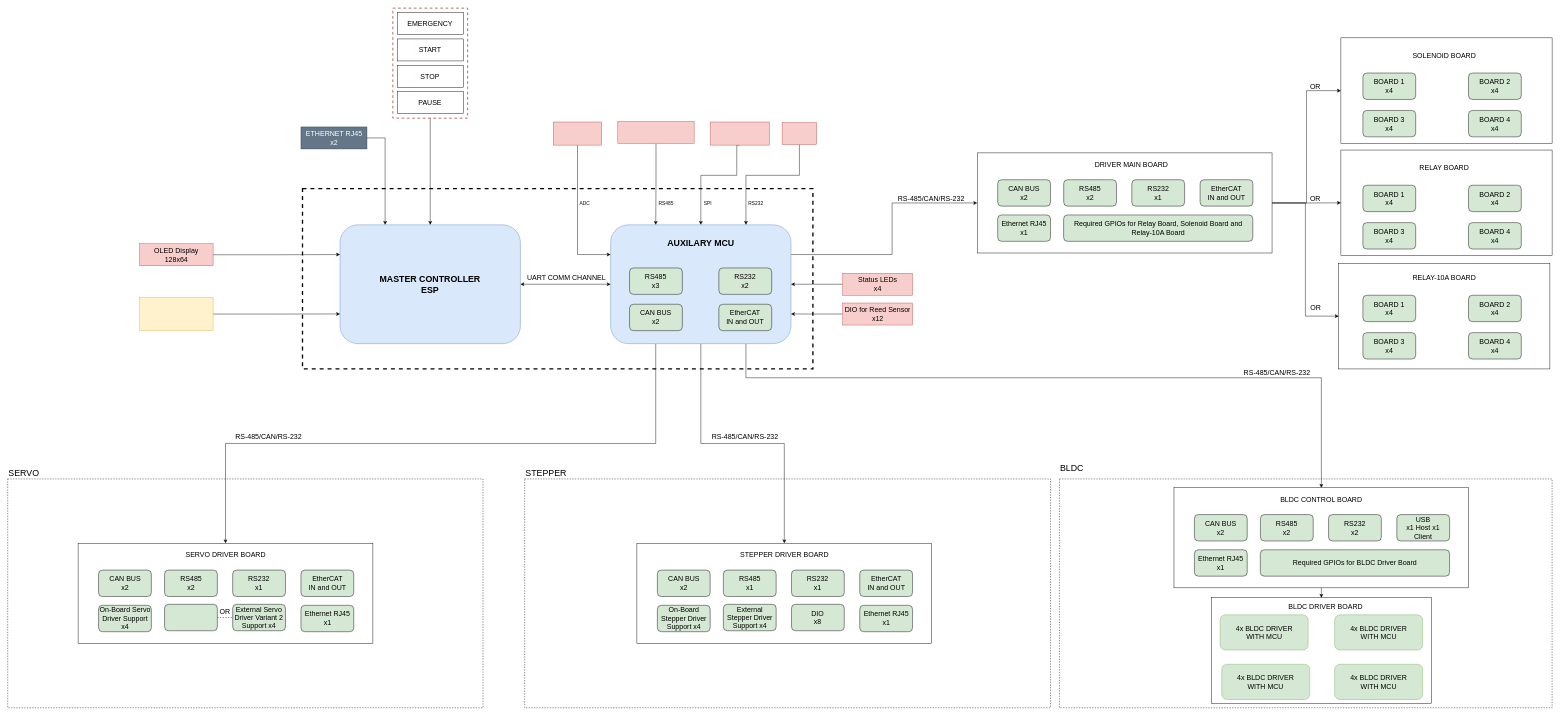
Image size: 1560x715. Some labels were removed from this diagram. The shapes that lost their labels are listed below. From the top down, each one's centre as x and y in pixels, then its label:
point (577, 133): Analog IO x2
point (655, 132): Weight Sensor Module
point (739, 133): 3.5" TFT Display x1
point (799, 133): RFID
point (176, 314): USB to UART Programming and Debugging
point (190, 617): External Servo Driver Variant 1 Support x4
